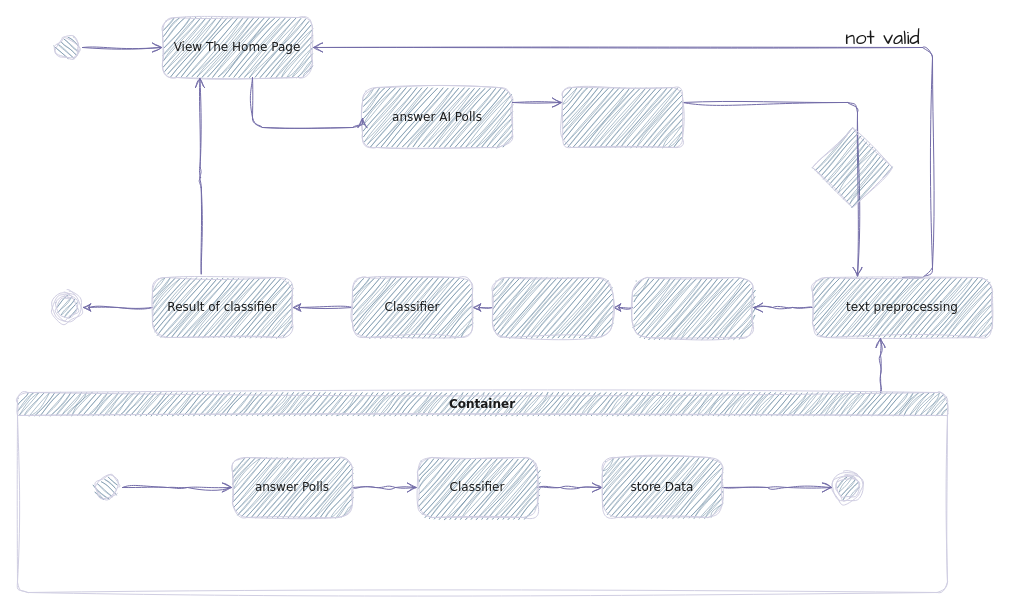
Image size: 1010x610. Some labels were removed from this diagram. Here are the shapes that lost their labels. From the top down, the centre of each, then its label:
At (x=622, y=117): "CHECK Validation".
At (x=852, y=167): "valid".
At (x=552, y=307): "Feature Weight".
At (x=692, y=307): "Feature selection".
